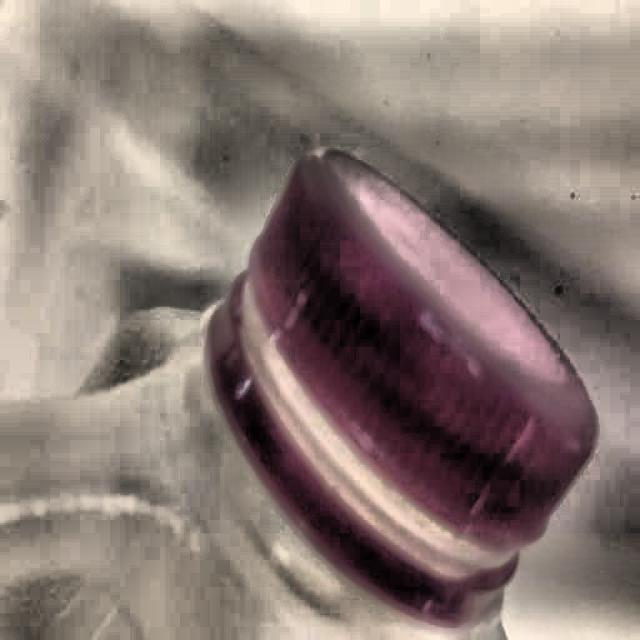plastic: (5, 145, 603, 640)
